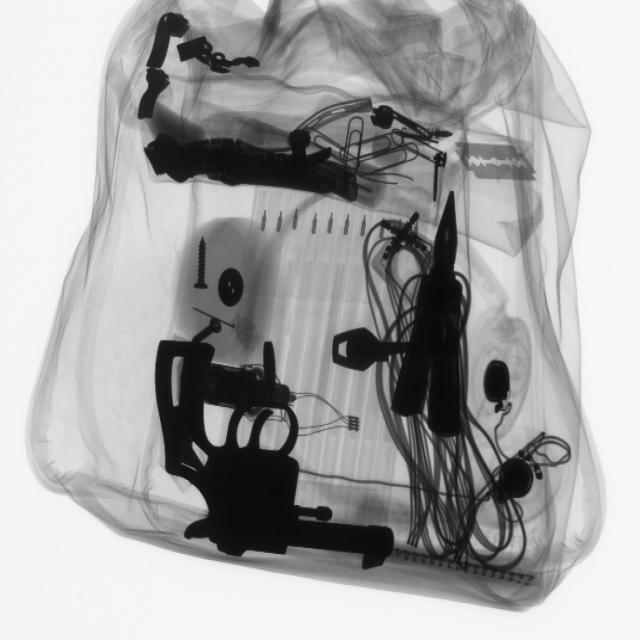BLADE: (448, 135, 544, 193)
GUN: (155, 339, 395, 568)
SCREW: (178, 231, 226, 297), (180, 304, 235, 349)
